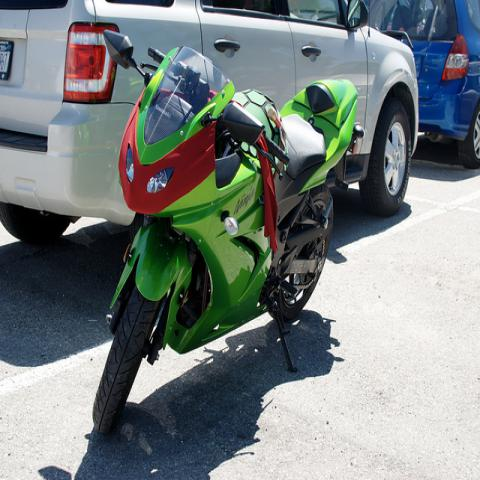car: (0, 0, 419, 244), (364, 0, 480, 170)
motorcycle: (93, 29, 368, 444)
